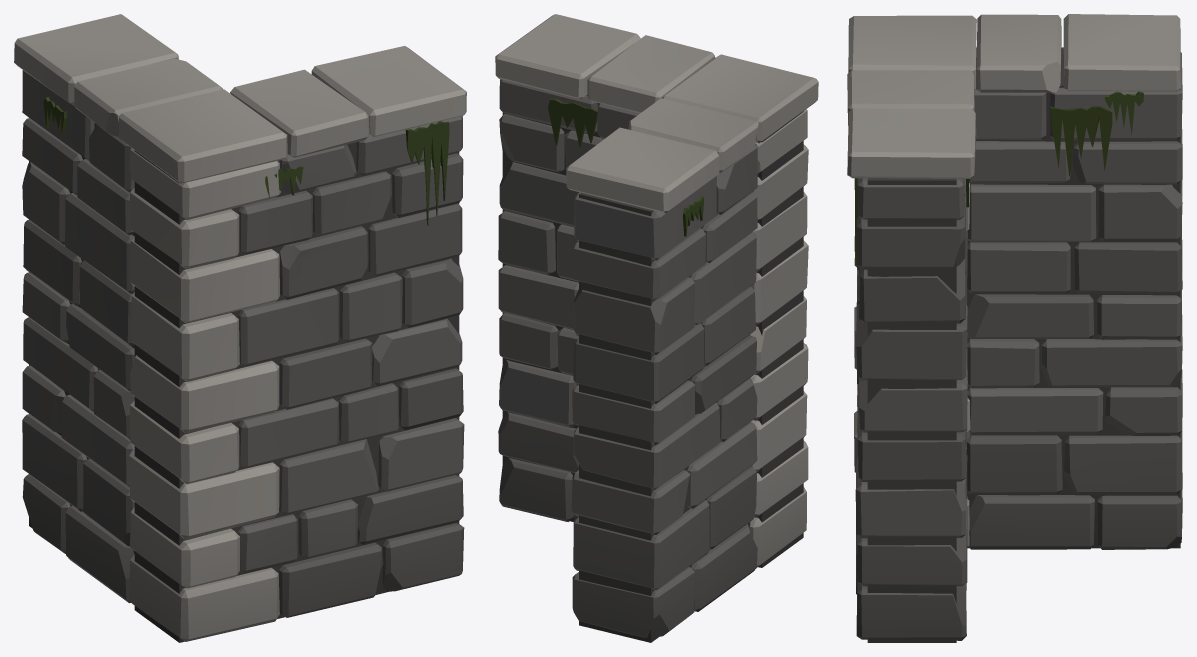
File: wall_corner.glb
The picture shows the model from 3 angles, left to right: view 1: azimuth 30°, elevation 25°; view 2: azimuth 150°, elevation 25°; view 3: azimuth 270°, elevation 25°; orthographic projection. The views are drawn at different scales.
Parts seen in each view (by area): view 1: wall_corner; view 2: wall_corner; view 3: wall_corner.
Part boxes in pixels (x1=…): wall_corner: x1=14, y1=14, x2=466, y2=642; wall_corner: x1=495, y1=14, x2=818, y2=642; wall_corner: x1=847, y1=14, x2=1182, y2=642.
Size of what is drawn, in the model's own units: 2.48 by 4.01 by 2.49.
